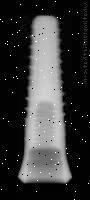AGS Medikal: (18, 14, 72, 183)
